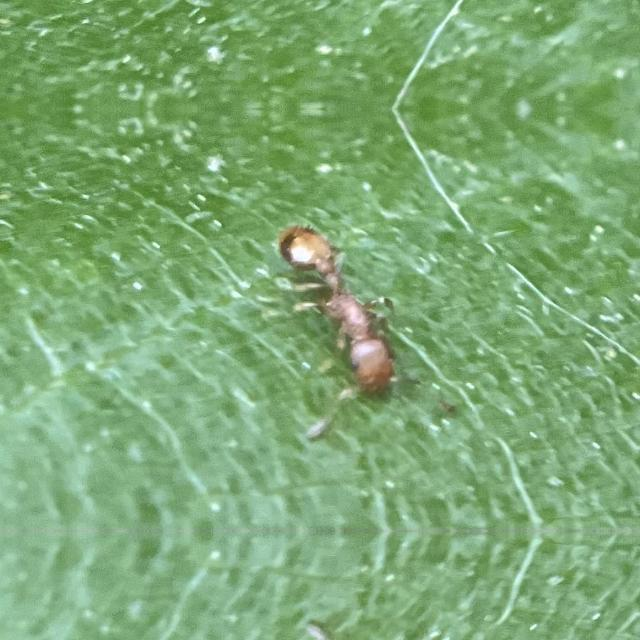Temnothorax: (253, 202, 432, 416)
